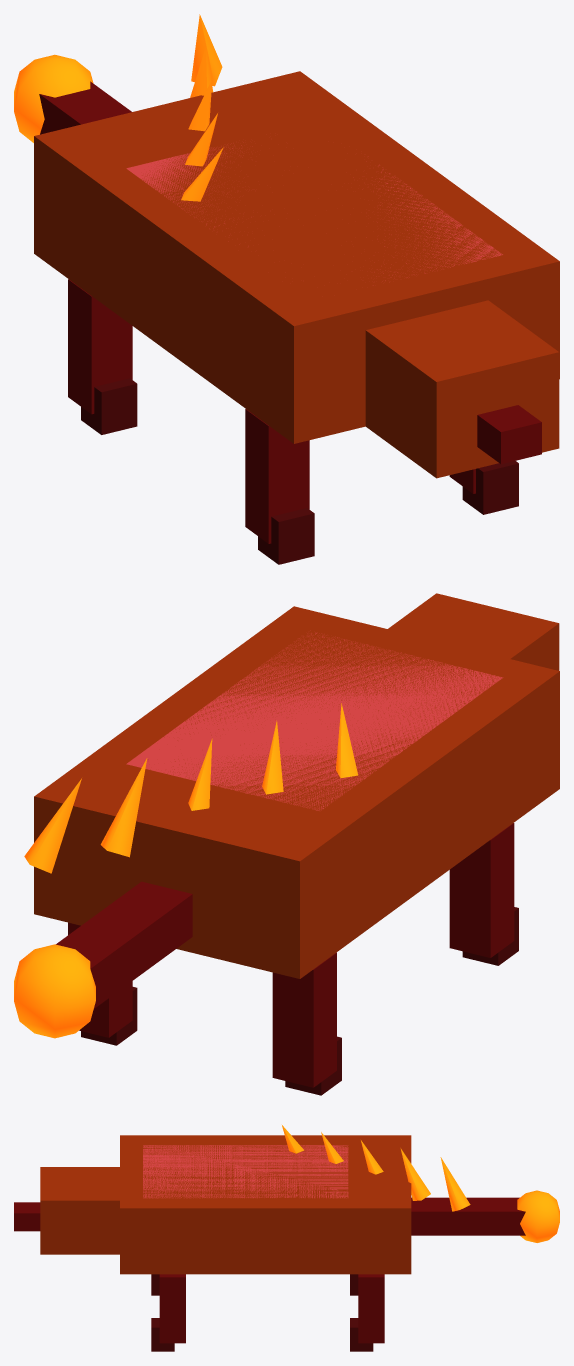
The model's file is SalamanderB.glb.
3 renders of one model, top to bottom at view 1: azimuth 30°, elevation 25°; view 2: azimuth 150°, elevation 25°; view 3: azimuth 270°, elevation 25°, orthographic. The views are drawn at different scales.
Visible parts, largest first — view 1: SalamanderBody; view 2: SalamanderBody; view 3: SalamanderBody.
Boxes of the visible parts, box(x1,y1,x2,y2) form: SalamanderBody: box(14, 14, 559, 564); SalamanderBody: box(14, 593, 559, 1095); SalamanderBody: box(14, 1125, 559, 1351).
Size of the model in its own units: 0.52 by 0.5983 by 1.65.
